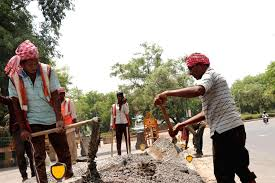arm: (201, 74, 245, 136), (6, 68, 30, 142), (47, 64, 72, 133), (153, 80, 210, 102), (108, 101, 117, 130), (123, 102, 131, 127)
face: (17, 52, 41, 74)
human: (154, 57, 257, 182), (2, 35, 74, 181), (107, 86, 135, 157)
leg: (215, 128, 254, 182), (115, 125, 124, 155)
noglove: (15, 125, 31, 142)
nogoggle: (19, 56, 39, 65)
nohelmet: (11, 37, 44, 72)
novest: (201, 74, 244, 136), (110, 101, 130, 126)
vest: (9, 63, 57, 124)
